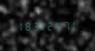eight: (24, 20, 30, 31)
four: (52, 19, 58, 30)
one: (17, 20, 23, 31), (38, 20, 44, 31), (66, 19, 72, 30)
seven: (59, 19, 65, 30)
three: (31, 20, 37, 31)
two: (45, 20, 51, 30)
